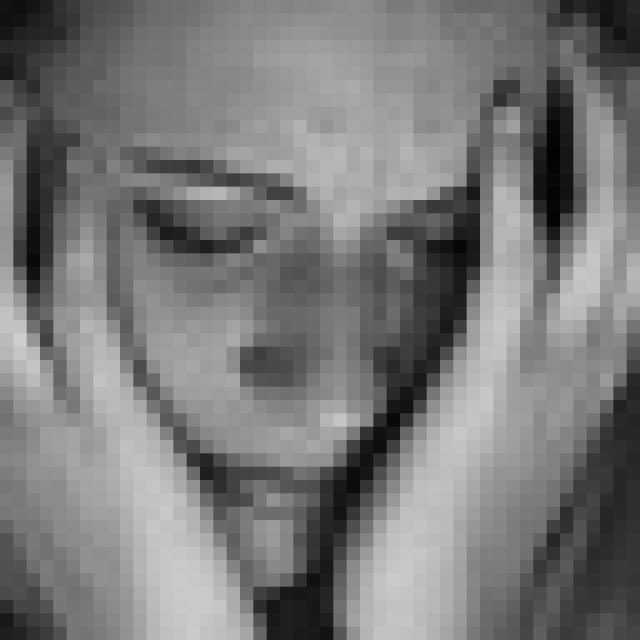sad: (120, 140, 480, 533)
